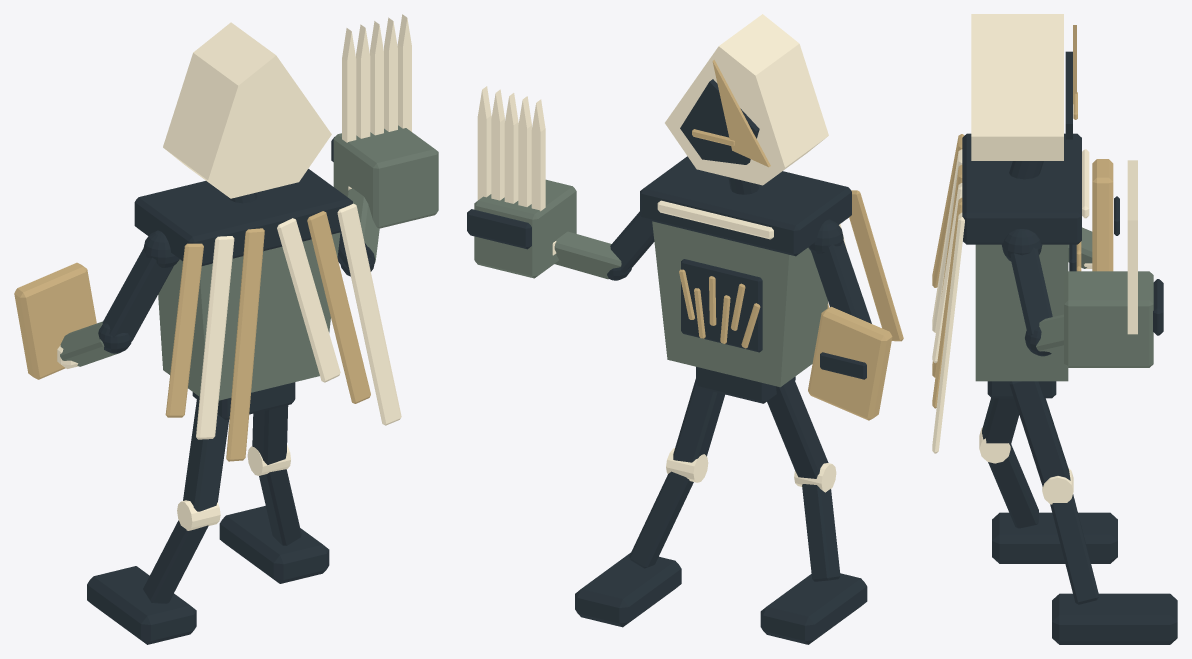
The picture shows the model from 3 angles, left to right: view 1: azimuth 30°, elevation 25°; view 2: azimuth 150°, elevation 25°; view 3: azimuth 270°, elevation 25°; orthographic projection. The views are drawn at different scales.
Visible parts, largest first — view 1: paper_hood, shredder_bin, shredder_lid, shred_gauntlet, confidential_dossier, left_shoe, right_shoe, paper_mantle_5, paper_mantle_2, paper_mantle_4, paper_mantle_1, paper_mantle_3 (+18 smaller); view 2: shredder_bin, paper_hood, shredder_lid, confidential_dossier, shred_gauntlet, left_shoe, right_shoe, bin_window, left_thigh, left_shin, hood_face_void, right_shin (+18 smaller); view 3: paper_hood, shredder_lid, shredder_bin, shred_gauntlet, right_shoe, left_shoe, right_thigh, right_shin, confidential_dossier, right_upper_arm, left_shin, paper_mantle_5 (+17 smaller).
Part boxes in pixels (<box>): paper_hood: <box>163,22,331,198</box>; shredder_bin: <box>158,232,340,400</box>; shredder_lid: <box>134,169,352,265</box>; shred_gauntlet: <box>333,125,438,228</box>; confidential_dossier: <box>14,262,96,379</box>; left_shoe: <box>87,566,196,644</box>; right_shoe: <box>219,506,329,583</box>; paper_mantle_5: <box>337,203,401,425</box>; paper_mantle_2: <box>226,228,264,461</box>; paper_mantle_4: <box>307,211,370,403</box>; paper_mantle_1: <box>196,236,234,439</box>; paper_mantle_3: <box>277,218,340,382</box>; shredder_bin: <box>652,221,827,387</box>; paper_hood: <box>665,14,828,185</box>; shredder_lid: <box>640,156,851,256</box>; confidential_dossier: <box>808,306,892,420</box>; shred_gauntlet: <box>474,179,576,278</box>; left_shoe: <box>760,573,867,644</box>; right_shoe: <box>575,552,681,627</box>; bin_window: <box>681,259,762,352</box>; left_thigh: <box>767,378,828,478</box>; left_shin: <box>802,484,840,581</box>; hood_face_void: <box>680,79,759,164</box>; right_shin: <box>629,471,693,568</box>; paper_hood: <box>971,14,1063,160</box>; shredder_lid: <box>962,133,1081,244</box>; shredder_bin: <box>975,244,1068,381</box>; shred_gauntlet: <box>1064,271,1153,367</box>; right_shoe: <box>1052,593,1177,644</box>; left_shoe: <box>992,512,1117,563</box>; right_thigh: <box>1009,381,1070,486</box>; right_shin: <box>1050,494,1098,604</box>; confidential_dossier: <box>1092,159,1113,271</box>; right_upper_arm: <box>1010,247,1052,335</box>; left_shin: <box>988,444,1038,528</box>; paper_mantle_5: <box>932,212,964,453</box>.
Bounding box in the file's own units: 1.61 × 2.16 × 0.82.
